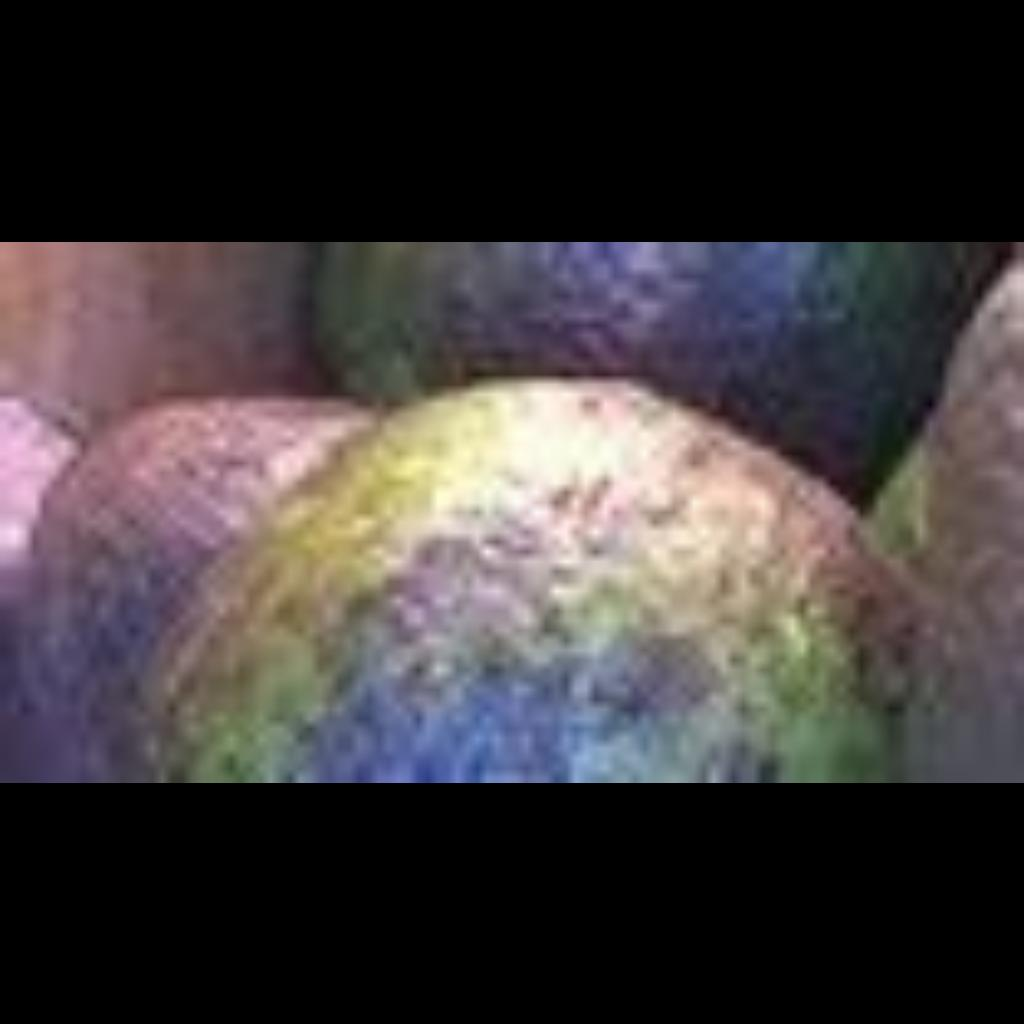Anthracnose: (335, 379, 867, 773)
